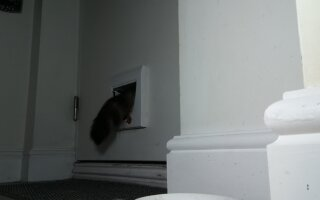clara: (91, 85, 132, 145)
